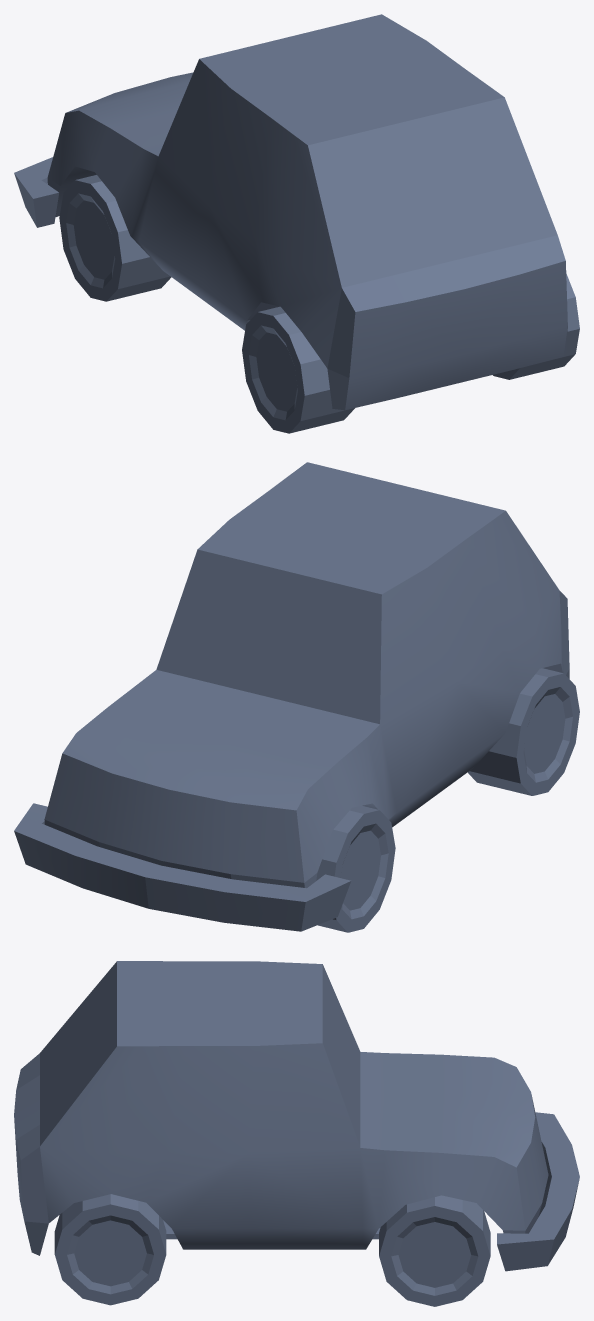
File: Car_02_Yellow.fbx
3 views of the same model, one above another, from view 1: azimuth 30°, elevation 25°; view 2: azimuth 150°, elevation 25°; view 3: azimuth 270°, elevation 25° (orthographic). The views are drawn at different scales.
Parts seen in each view (by area): view 1: Car_02_Yellow; view 2: Car_02_Yellow; view 3: Car_02_Yellow.
Part boxes in pixels (x1,y1,x2,y2): Car_02_Yellow: (14, 14, 579, 433); Car_02_Yellow: (14, 462, 579, 932); Car_02_Yellow: (14, 961, 579, 1306).
Bounding box in the file's own units: 7.45 × 6.2 × 13.06.
